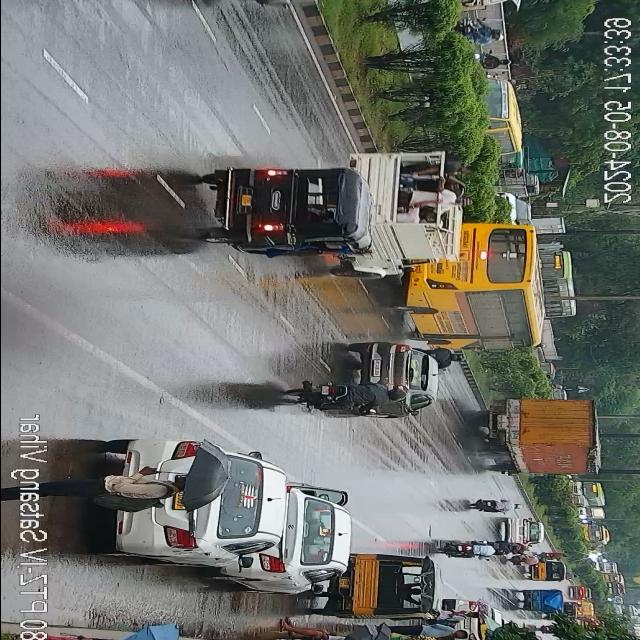2-wheelers: (290, 384, 400, 414), (452, 18, 504, 48), (435, 536, 501, 558), (470, 493, 522, 518)
auto: (216, 172, 366, 250), (336, 159, 448, 259), (344, 553, 439, 615), (516, 586, 563, 612), (527, 560, 559, 580)
bus: (419, 218, 545, 354), (533, 248, 577, 322), (566, 480, 604, 508)
car: (113, 436, 274, 558), (230, 487, 341, 595), (348, 335, 431, 416), (458, 70, 526, 158), (449, 601, 502, 640), (496, 516, 538, 542), (222, 0, 334, 3)
pedestrian: (0, 475, 202, 505), (278, 622, 364, 640), (388, 625, 464, 640)
truck: (478, 398, 596, 470)
